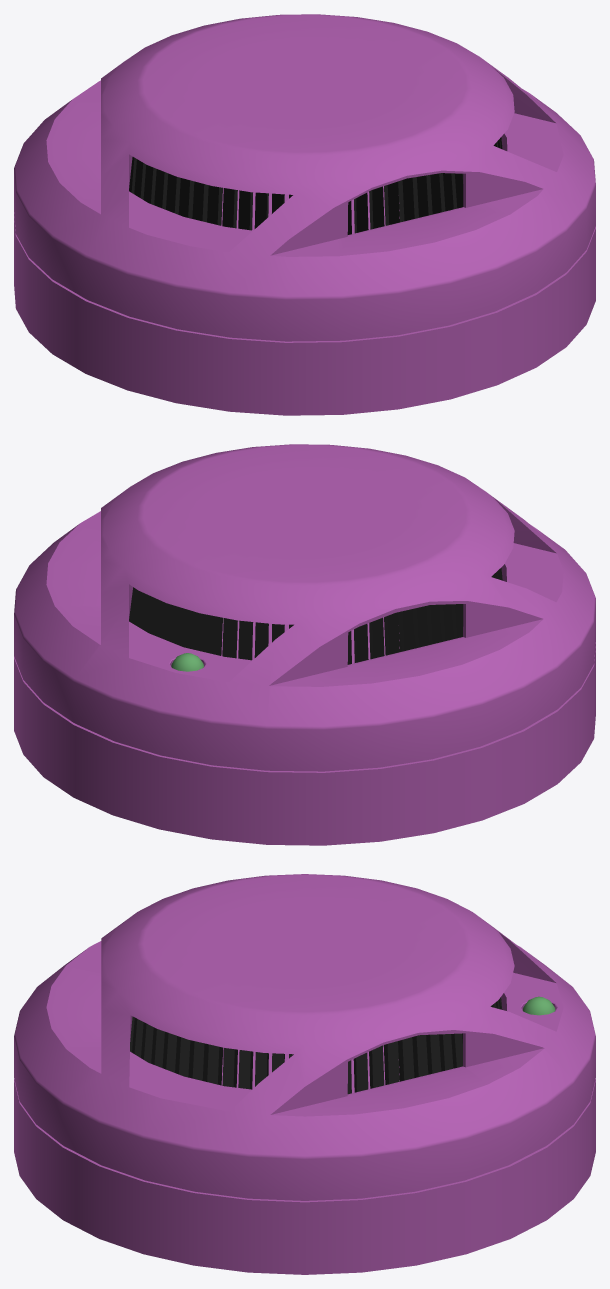
The picture shows the model from 3 angles, top to bottom: view 1: azimuth 30°, elevation 25°; view 2: azimuth 150°, elevation 25°; view 3: azimuth 270°, elevation 25°; orthographic projection.
Visible parts, largest first — view 1: FR_LOD0; view 2: FR_LOD0; view 3: FR_LOD0.
Part boxes in pixels (left/top/right/bottom): FR_LOD0: left=14, top=14, right=595, bottom=415; FR_LOD0: left=14, top=444, right=595, bottom=845; FR_LOD0: left=14, top=874, right=595, bottom=1274.
Size of what is drawn, in the model's own units: 9.1 by 3.6 by 9.1.
